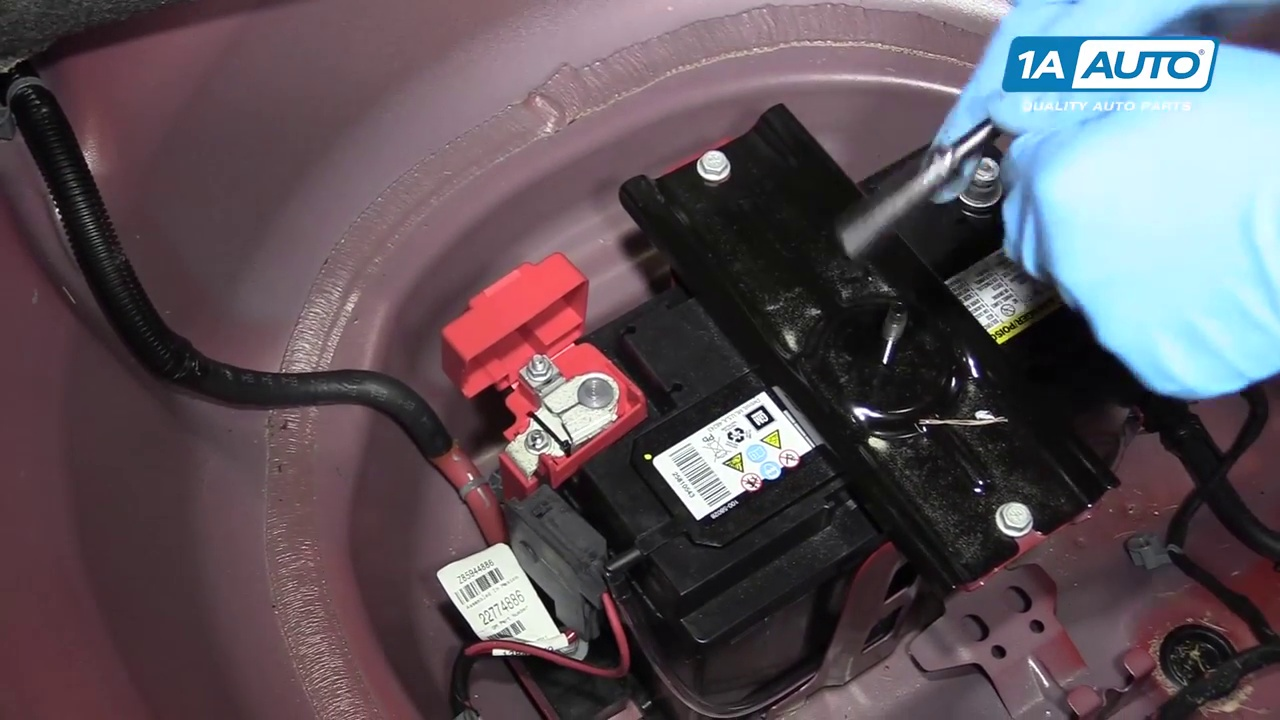battery: (483, 130, 1121, 617)
neg_touched: (919, 68, 1081, 267)
pos_connected: (408, 265, 677, 486)
